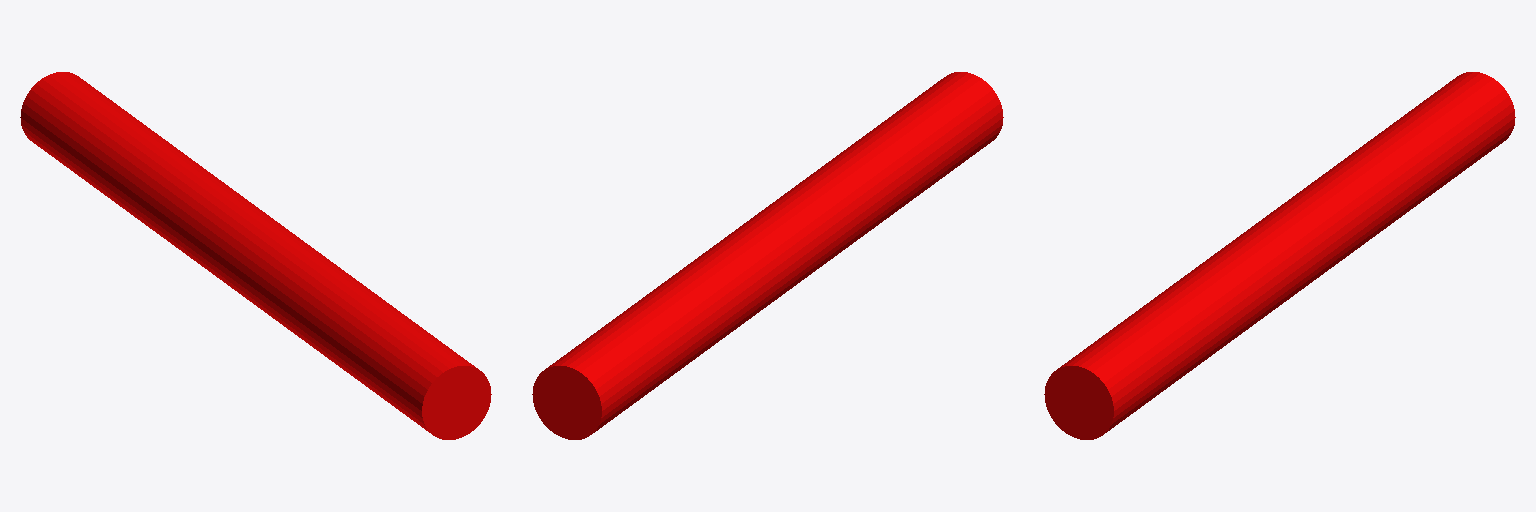
robot.urdf — basket:
<?xml version="1.0"?>
<robot name="basket">

  <!-- MuJoCo extension: keep visual geoms (default discards them) -->
  <mujoco>
    <compiler discardvisual="false"/>
  </mujoco>

  <!-- Dummy world link so the basket gets a floating root joint -->
  <link name="world"/>

  <link name="target_cube">
    <!-- Visual: scaled basket mesh, rotated to stand upright -->
    <visual>
      <origin rpy="1.5708 0 0" xyz="0 0 0"/>
      <geometry>
        <mesh filename="shopping-basket.obj" scale="0.2 0.2 0.2"/>
      </geometry>
      <material name="wicker">
        <color rgba="0.6 0.4 0.2 1.0"/>
      </material>
    </visual>

    <!-- Visual: red handle marker on the mesh handle peak (vision target) -->
    <visual>
      <origin xyz="0 0 0.20" rpy="1.5708 0 0"/>
      <geometry>
        <cylinder length="0.10" radius="0.005"/>
      </geometry>
      <material name="red">
        <color rgba="0.95 0.05 0.05 1.0"/>
      </material>
    </visual>

    <!-- Collision: AABB box around the scaled basket -->
    <collision>
      <origin xyz="0 0 0"/>
      <geometry>
        <box size="0.196 0.20 0.164"/>
      </geometry>
    </collision>

    <inertial>
      <origin xyz="0 0 0.018"/>
      <mass value="0.3"/>
      <inertia ixx="0.002" ixy="0.0" ixz="0.0" iyy="0.002" iyz="0.0" izz="0.002"/>
    </inertial>
  </link>

  <!-- Floating joint = MuJoCo freejoint named target_cube_free -->
  <joint name="target_cube_free" type="floating">
    <parent link="world"/>
    <child  link="target_cube"/>
  </joint>

</robot>

--- What the picture shows (computed from the rendered views, not written in the file) ---
3 views of the same robot in one strip: view 1: azimuth 30°, elevation 25°; view 2: azimuth 150°, elevation 25°; view 3: azimuth 330°, elevation 25° (orthographic).
Robot: basket — 2 links, 1 joints (1 floating); root link world; default pose: all joints at 0.
Visible links, largest first — view 1: target_cube; view 2: target_cube; view 3: target_cube.
Boxes of the visible links, x1,y1,x2,y2 form: target_cube: (20, 72, 491, 439); target_cube: (532, 72, 1003, 439); target_cube: (1044, 72, 1515, 439).
Size in the robot's own frame: 0.01 by 0.1 by 0.01 metres.
0 mesh visuals loaded from 1 distinct referenced files (none loaded); not drawn: 1 (reference not matched to a file when rendering).
